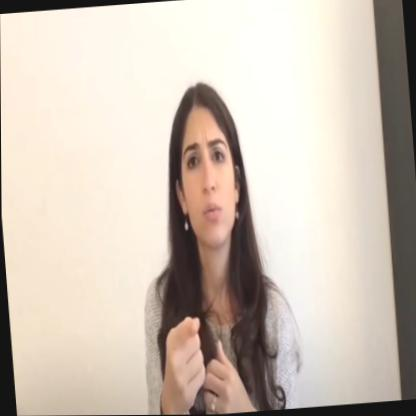HowAreYou: (160, 306, 245, 415)
